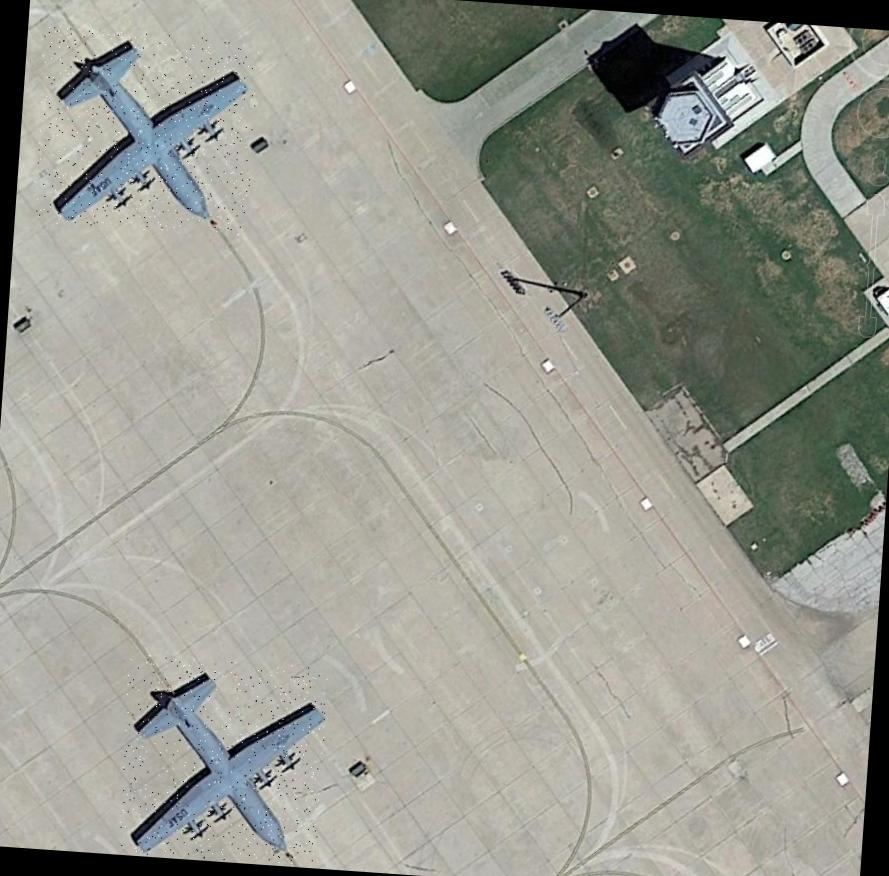A2: (30, 26, 259, 237), (115, 654, 328, 866)
